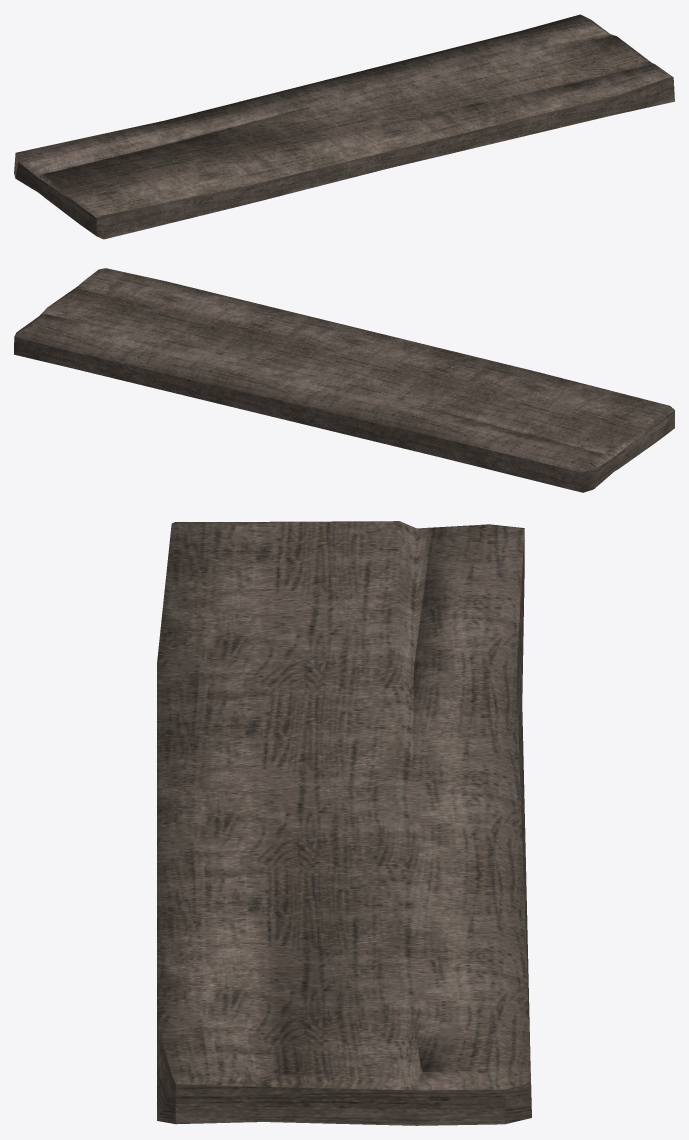
File: PlankLong_Wood_A_001.fbx
3 views of the same model, one above another, from view 1: azimuth 30°, elevation 25°; view 2: azimuth 150°, elevation 25°; view 3: azimuth 270°, elevation 25° (orthographic). The views are drawn at different scales.
Visible parts, largest first — view 1: PlankLong_Wood_A_001; view 2: PlankLong_Wood_A_001; view 3: PlankLong_Wood_A_001.
Boxes of the visible parts, x1=… form: PlankLong_Wood_A_001: x1=14, y1=14, x2=674, y2=239; PlankLong_Wood_A_001: x1=14, y1=268, x2=674, y2=492; PlankLong_Wood_A_001: x1=157, y1=521, x2=531, y2=1125.
Size of the model in its own units: 317 by 12.83 by 89.28.
Materials: 1 (1 with a texture image).
